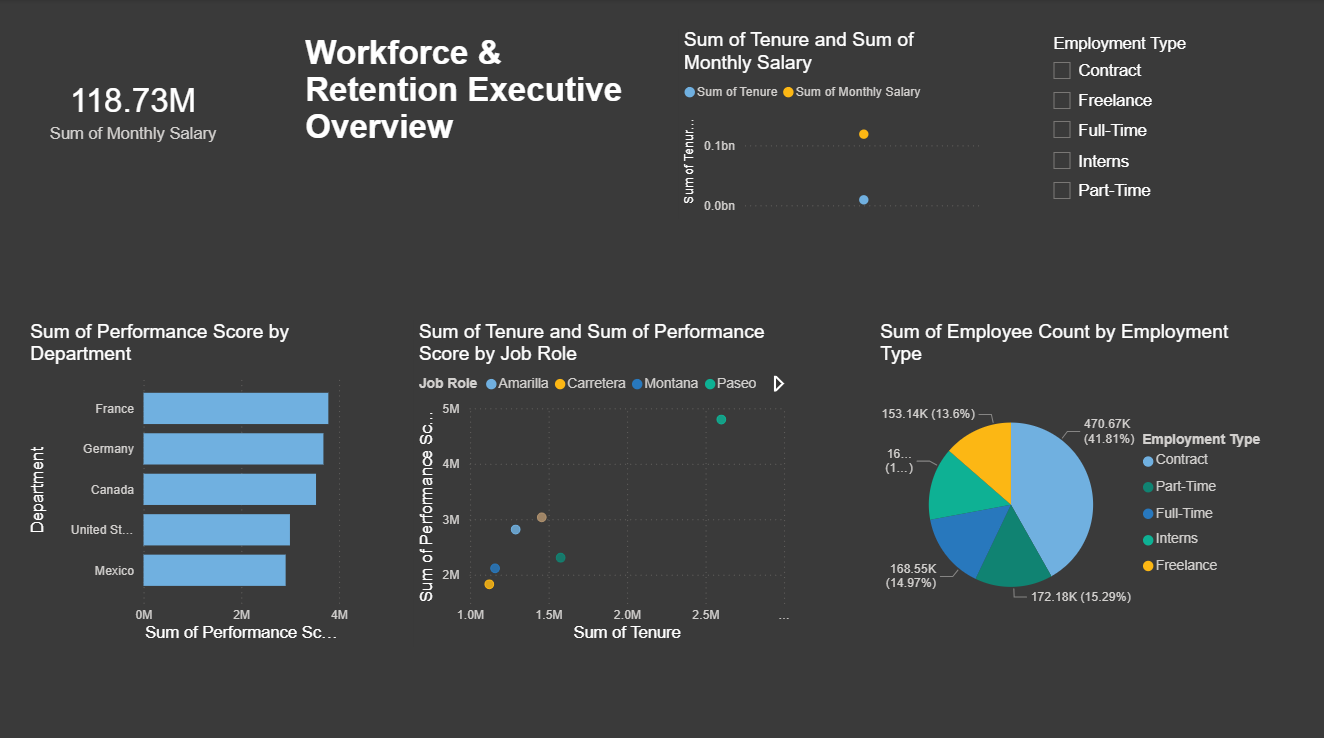

What the dashboard file says about the page in this screenshot:
{"tool":"powerbi","page":{"name":"Page 1","canvas":[1280,720],"ordinal":0},"visuals":[{"type":"card","fields":{"Values":["Sum(financials.Monthly Salary)"]},"box":[9.7,0,237.7,212.3],"z":0},{"type":"clusteredBarChart","fields":{"Category":["financials.Department"],"Y":["Sum(financials.Performance Score)"]},"box":[24.1,310.1,317.3,314.9],"z":1},{"type":"scatterChart","fields":{"X":["Sum(financials.Tenure)"],"Y":["Sum(financials.Performance Score)"],"Series":["financials.Job Role"]},"box":[399.3,310.1,371.6,314.9],"z":2},{"type":"slicer","fields":{"Values":["financials.Segment"]},"box":[1003.8,29,244.9,220.8],"z":3},{"type":"textbox","box":[289.5,29,316.1,164.1],"z":4},{"type":"pieChart","fields":{"Category":["financials.Employment Type"],"Y":["Sum(financials.Employee Count)"]},"box":[844.5,310.1,384.9,314.9],"z":5},{"type":"lineChart","fields":{"Y":["Sum(financials.Tenure)","Sum(financials.Monthly Salary)"]},"box":[655.1,29,298,183.4],"z":6}]}

Visuals, with their boxes in screenshot pixels (x1, y1, x2, y2), scaled from the page's 1280x720 canvas onto the 1324x738 screenshot:
card - Sum(financials.Monthly Salary): x1=10, y1=0, x2=256, y2=218
clusteredBarChart - financials.Department x Sum(financials.Performance Score): x1=25, y1=318, x2=353, y2=641
scatterChart - Sum(financials.Tenure) x Sum(financials.Performance Score): x1=413, y1=318, x2=797, y2=641
slicer - financials.Segment: x1=1038, y1=30, x2=1292, y2=256
textbox: x1=299, y1=30, x2=626, y2=198
pieChart - financials.Employment Type x Sum(financials.Employee Count): x1=874, y1=318, x2=1272, y2=641
lineChart - Sum(financials.Tenure) x Sum(financials.Monthly Salary): x1=678, y1=30, x2=986, y2=218
